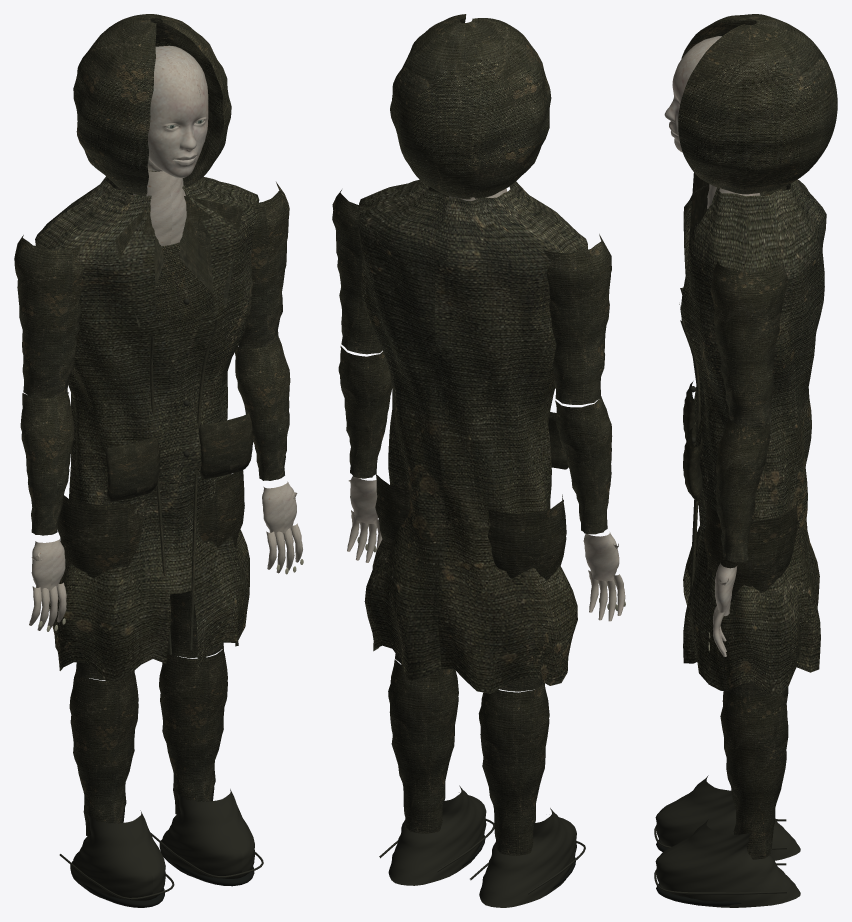
The model's file is watcher.glb.
The picture shows the model from 3 angles, left to right: view 1: azimuth 30°, elevation 25°; view 2: azimuth 150°, elevation 25°; view 3: azimuth 270°, elevation 25°; orthographic projection.
Parts seen in each view (by area): view 1: tailored-coat, sculpt (×8), ragged-hood, boots-details (×2), pants-watcher-details, facial-sculpt, cloth-watcher-details, skin-watcher-details (×2), neck; view 2: tailored-coat, sculpt (×8), ragged-hood, boots-details (×2), skin-watcher-details (×2), pants-watcher-details; view 3: tailored-coat, sculpt (×4), ragged-hood, boots-details (×2), cloth-watcher-details, pants-watcher-details, facial-sculpt, skin-watcher-details, sole-details.
Boxes of the visible parts, x1=… form: tailored-coat: x1=35, y1=171, x2=259, y2=682; sculpt (×8): x1=14, y1=182, x2=290, y2=836; ragged-hood: x1=73, y1=14, x2=231, y2=196; boots-details (×2): x1=59, y1=789, x2=263, y2=900; pants-watcher-details: x1=105, y1=242, x2=252, y2=501; facial-sculpt: x1=147, y1=45, x2=208, y2=177; cloth-watcher-details: x1=115, y1=196, x2=242, y2=654; skin-watcher-details (×2): x1=29, y1=481, x2=302, y2=630; neck: x1=133, y1=171, x2=186, y2=246; tailored-coat: x1=358, y1=179, x2=587, y2=693; sculpt (×8): x1=332, y1=190, x2=612, y2=855; ragged-hood: x1=390, y1=14, x2=551, y2=199; boots-details (×2): x1=379, y1=785, x2=585, y2=907; skin-watcher-details (×2): x1=347, y1=476, x2=625, y2=621; pants-watcher-details: x1=548, y1=412, x2=568, y2=469; tailored-coat: x1=679, y1=179, x2=826, y2=695; sculpt (×4): x1=704, y1=260, x2=797, y2=859; ragged-hood: x1=678, y1=14, x2=837, y2=194; boots-details (×2): x1=654, y1=775, x2=800, y2=907; cloth-watcher-details: x1=680, y1=172, x2=709, y2=592; pants-watcher-details: x1=683, y1=381, x2=702, y2=501; facial-sculpt: x1=664, y1=36, x2=721, y2=152; skin-watcher-details: x1=713, y1=563, x2=737, y2=656; sole-details: x1=656, y1=883, x2=741, y2=906.
Bounding box in the file's own units: 0.6962 × 2.09 × 0.4051.
Materials: 14 (5 with a texture image).
